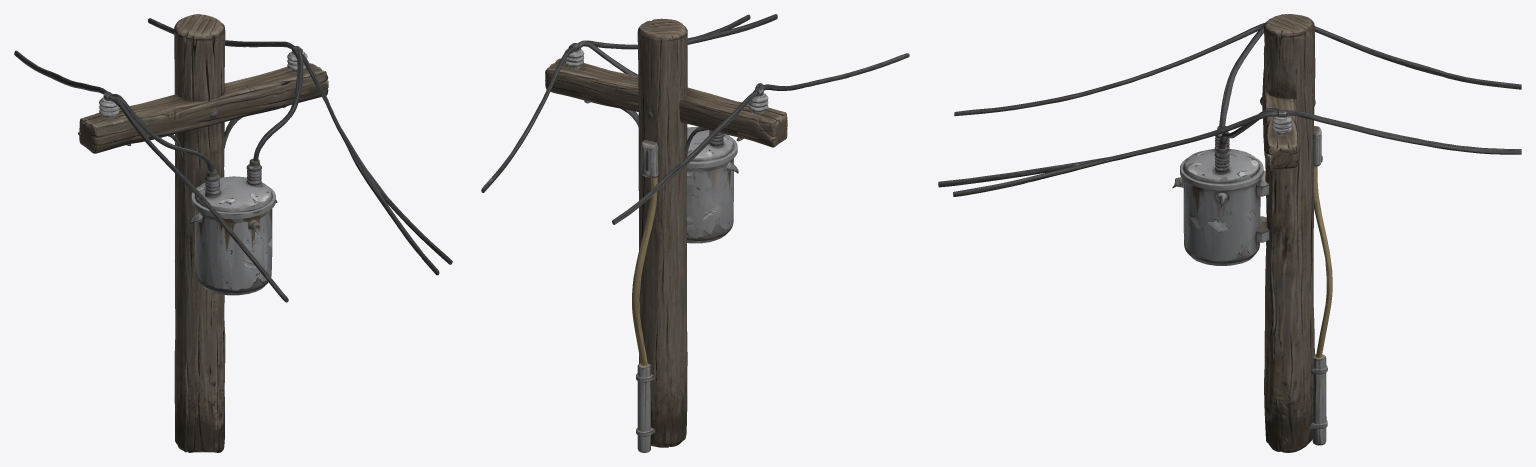
File: swer_isolator.glb
3 views of the same model, side by side, from view 1: azimuth 30°, elevation 25°; view 2: azimuth 150°, elevation 25°; view 3: azimuth 270°, elevation 25° (orthographic). The views are drawn at different scales.
Size of the model in its own units: 0.8826 by 1.52 by 1.9.
1 material, 1 textured.
